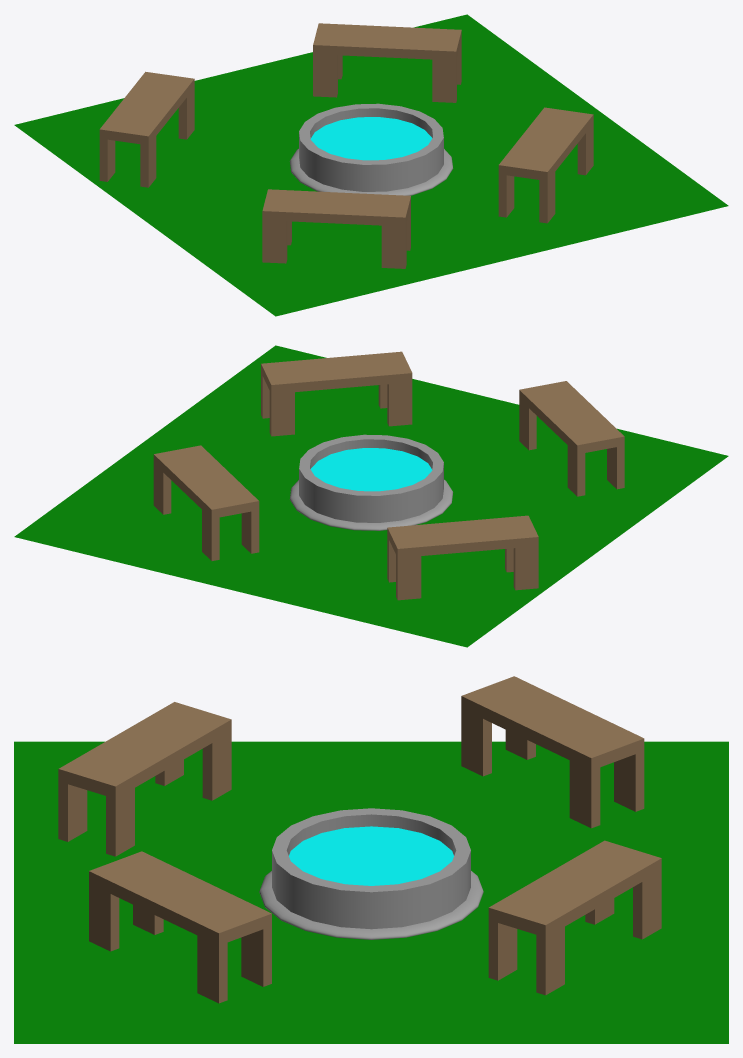
File: fountain.fbx
The picture shows the model from 3 angles, top to bottom: view 1: azimuth 30°, elevation 25°; view 2: azimuth 150°, elevation 25°; view 3: azimuth 270°, elevation 25°; orthographic projection. The views are drawn at different scales.
Parts seen in each view (by area): view 1: pPlane2; view 2: pPlane2; view 3: pPlane2.
Part boxes in pixels (x1,y1,x2,y2): pPlane2: [14, 14, 728, 316]; pPlane2: [14, 345, 728, 647]; pPlane2: [14, 676, 728, 1043].
Size of the model in its own units: 2 by 0.229 by 2.
